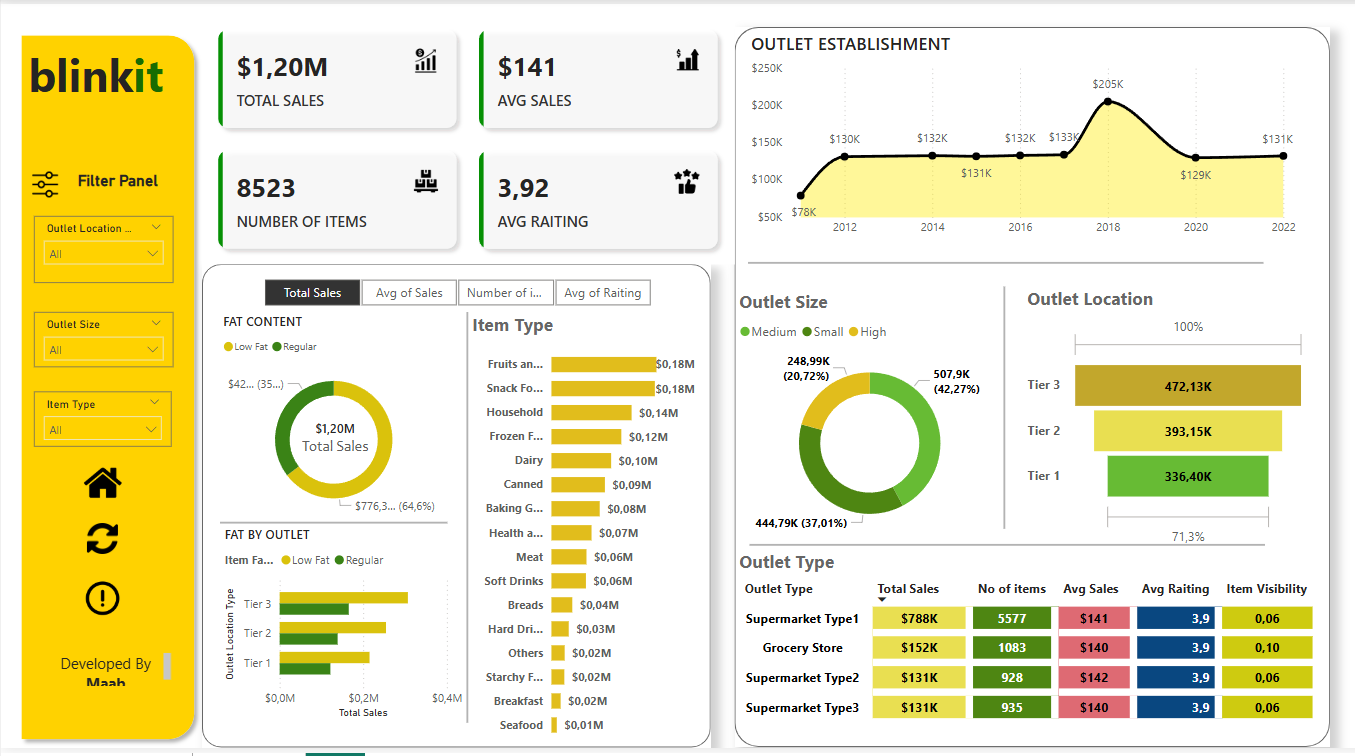

This screenshot's page, from the dashboard's own definition file:
{"tool":"powerbi","page":{"name":"Page 1","canvas":[1600,800],"ordinal":0},"visuals":[{"type":"shape","box":[216.9,280.1,547.6,520.5],"z":0},{"type":"shape","box":[789.2,25.8,640.8,774.7],"z":1000},{"type":"shape","box":[12.7,25.3,204.2,775.3],"z":2000},{"type":"textbox","box":[24,39,180.1,94.6],"z":3000},{"type":"cardVisual","fields":{"Data":["Measures_table.Total Sales","Measures_table.Avg of Sales","Measures_table.Number of items","Measures_table.Avg of Raiting"]},"box":[216.1,10.5,573.3,270.2],"z":4000},{"type":"donutChart","title":"FAT CONTENT","fields":{"Y":["Measures_table.Total Sales"],"Category":["Grocery Data.Item Fat Content"]},"box":[234.1,333.2,247.6,229.6],"z":5000},{"type":"slicer","fields":{"Values":["Metrics.Metrics"]},"box":[258.4,291,464.5,41.6],"z":6000},{"type":"cardVisual","fields":{"Data":["Measures_table.Total Sales"]},"box":[306.2,430.7,106.6,70.5],"z":7000},{"type":"clusteredBarChart","title":"FAT BY OUTLET","fields":{"Y":["Measures_table.Total Sales"],"Category":["Grocery Data.Outlet Location Type"],"Series":["Grocery Data.Item Fat Content"]},"box":[235.6,561.7,266.3,213],"z":8000},{"type":"barChart","title":"Item Type","fields":{"Y":["Measures_table.Total Sales"],"Category":["Grocery Data.Item Type"]},"box":[502.4,332.5,249.4,468.1],"z":9000},{"type":"donutChart","title":"Outlet Size","fields":{"Category":["Grocery Data.Outlet Size"],"Y":["Sum(Grocery Data.Sales)"]},"box":[789.8,309,291,276.5],"z":10000},{"type":"funnel","title":"Outlet Location","fields":{"Category":["Grocery Data.Outlet Location Type"],"Y":["Sum(Grocery Data.Sales)"]},"box":[1099.1,305,309.9,285.7],"z":11000},{"type":"tableEx","title":"Outlet Type","fields":{"Values":["Grocery Data.Outlet Type","Measures_table.Total Sales","Measures_table.Number of items","Measures_table.Avg of Sales","Measures_table.Avg of Raiting","Avg(Grocery Data.Item Visibility)"]},"box":[789.2,587.5,640.8,213],"z":12000},{"type":"lineChart","title":"OUTLET ESTABLISHMENT","fields":{"Category":["Grocery Data.Outlet Establishment Year"],"Y":["Measures_table.Total Sales"]},"box":[802.2,30.7,595.6,229.2],"z":13000},{"type":"image","box":[23.8,175.7,47.1,38.1],"z":14000},{"type":"slicer","fields":{"Values":["Grocery Data.Outlet Location Type1"]},"box":[36.1,229.5,150,72.3],"z":15000},{"type":"slicer","fields":{"Values":["Grocery Data.Outlet Size"]},"box":[36.1,332.5,150,59.6],"z":16000},{"type":"slicer","fields":{"Values":["Grocery Data.Item Type"]},"box":[36.1,417.5,148.2,59.6],"z":17000},{"type":"image","box":[83.8,482.5,51.2,67.5],"z":18000},{"type":"image","box":[87.5,545.6,43.8,61.2],"z":19000},{"type":"image","box":[82.5,606.9,53.8,67.5],"z":20000},{"type":"textbox","box":[77.7,175.3,104.8,45.2],"z":21000},{"type":"textbox","box":[47,694,141,45.2],"z":22000},{"type":"shape","box":[804.2,236.8,554.8,84.9],"z":22001},{"type":"shape","box":[806,540.4,554.8,84.9],"z":22002},{"type":"shape","box":[1023.3,305,113,261.5],"z":22003},{"type":"shape","box":[445.5,332.5,113,442.2],"z":22004},{"type":"shape","box":[235.6,516.5,245.3,85.5],"z":22005}]}

Visuals, with their boxes on the page's 1600x800 design canvas (x1, y1, x2, y2). These are canvas units, not pixel positions in the 1355x756 screenshot, which may show the page scaled, cropped or inside an application window:
shape: <bbox>217, 280, 764, 801</bbox>
shape: <bbox>789, 26, 1430, 800</bbox>
shape: <bbox>13, 25, 217, 801</bbox>
textbox: <bbox>24, 39, 204, 134</bbox>
cardVisual - Measures_table.Total Sales x Measures_table.Avg of Sales: <bbox>216, 10, 789, 281</bbox>
"FAT CONTENT" donutChart: <bbox>234, 333, 482, 563</bbox>
slicer - Metrics.Metrics: <bbox>258, 291, 723, 333</bbox>
cardVisual - Measures_table.Total Sales: <bbox>306, 431, 413, 501</bbox>
"FAT BY OUTLET" clusteredBarChart: <bbox>236, 562, 502, 775</bbox>
"Item Type" barChart: <bbox>502, 332, 752, 801</bbox>
"Outlet Size" donutChart: <bbox>790, 309, 1081, 586</bbox>
"Outlet Location" funnel: <bbox>1099, 305, 1409, 591</bbox>
"Outlet Type" tableEx: <bbox>789, 588, 1430, 800</bbox>
"OUTLET ESTABLISHMENT" lineChart: <bbox>802, 31, 1398, 260</bbox>
image: <bbox>24, 176, 71, 214</bbox>
slicer - Grocery Data.Outlet Location Type1: <bbox>36, 230, 186, 302</bbox>
slicer - Grocery Data.Outlet Size: <bbox>36, 332, 186, 392</bbox>
slicer - Grocery Data.Item Type: <bbox>36, 418, 184, 477</bbox>
image: <bbox>84, 482, 135, 550</bbox>
image: <bbox>88, 546, 131, 607</bbox>
image: <bbox>82, 607, 136, 674</bbox>
textbox: <bbox>78, 175, 182, 220</bbox>
textbox: <bbox>47, 694, 188, 739</bbox>
shape: <bbox>804, 237, 1359, 322</bbox>
shape: <bbox>806, 540, 1361, 625</bbox>
shape: <bbox>1023, 305, 1136, 566</bbox>
shape: <bbox>446, 332, 558, 775</bbox>
shape: <bbox>236, 516, 481, 602</bbox>
